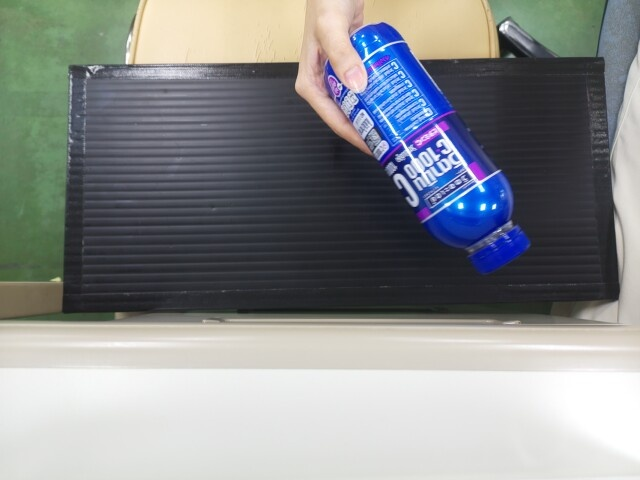plastic_bottle: (349, 20, 513, 267)
